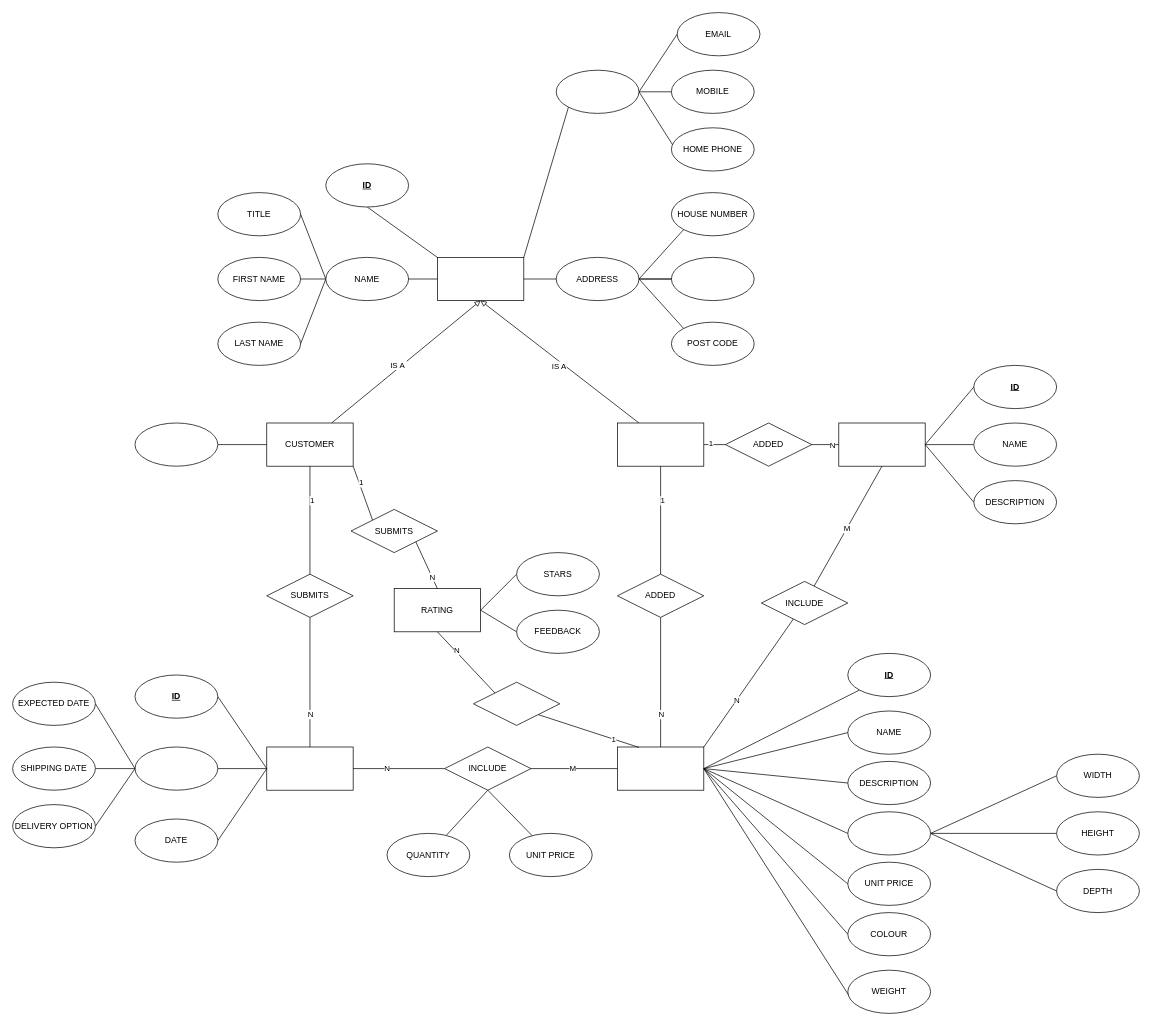
This 1152x1026 diagram has some shape labels left out. Here are the shapes that lost their labels. From the top down, the box of each, then its label:
(555, 69, 639, 113): CONTACT
(437, 257, 524, 301): USER
(671, 257, 754, 301): STREET NAME
(134, 422, 218, 466): FAMILY CARD ID
(617, 422, 704, 466): MANAGER
(838, 422, 925, 466): CATEGORY
(473, 681, 560, 725): GIVEN TO
(134, 746, 218, 790): DELIVERY DETAILS
(266, 746, 353, 790): ORDER
(617, 746, 704, 790): PRODUCT
(847, 811, 931, 855): DIMENSIONS
